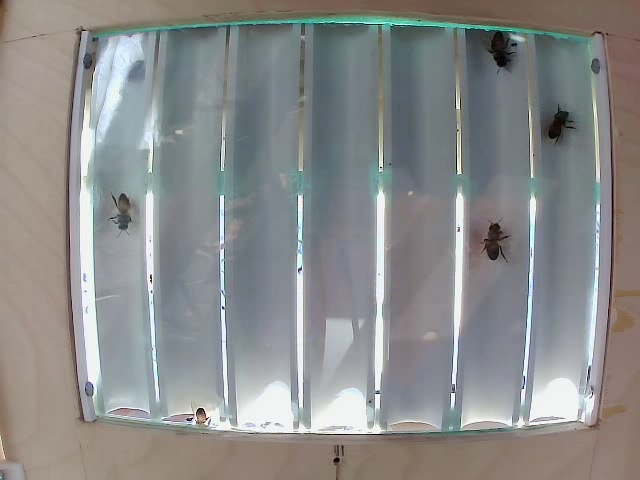bee: (107, 188, 147, 245), (479, 35, 506, 79), (478, 224, 506, 265), (540, 107, 565, 150)
